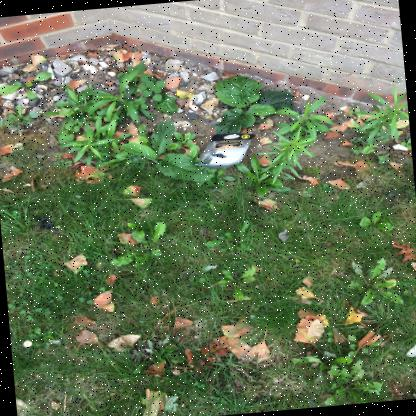Disposable food container: (195, 133, 254, 169)
Plastic film: (195, 133, 254, 165), (279, 230, 289, 242)
Unlabeled litter: (407, 344, 416, 357)
